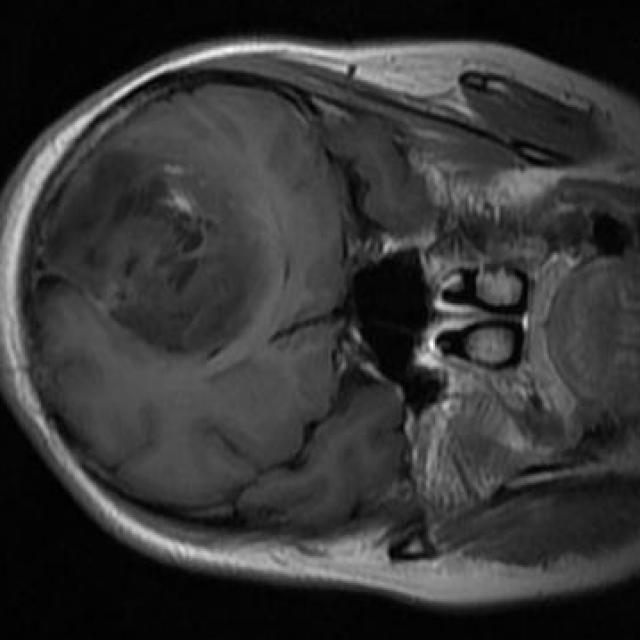glioma: (48, 152, 266, 358)
